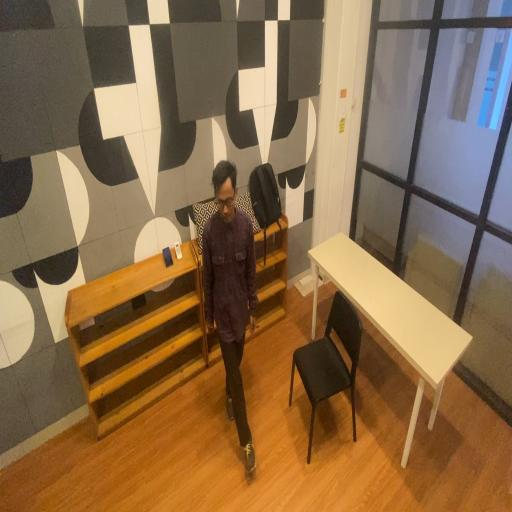hp: (162, 245, 174, 272)
kursi: (283, 285, 363, 466)
lemari: (55, 238, 205, 443)
meja: (305, 227, 469, 458)
remote AC: (173, 240, 183, 262)
tas ransel: (248, 161, 283, 234)
